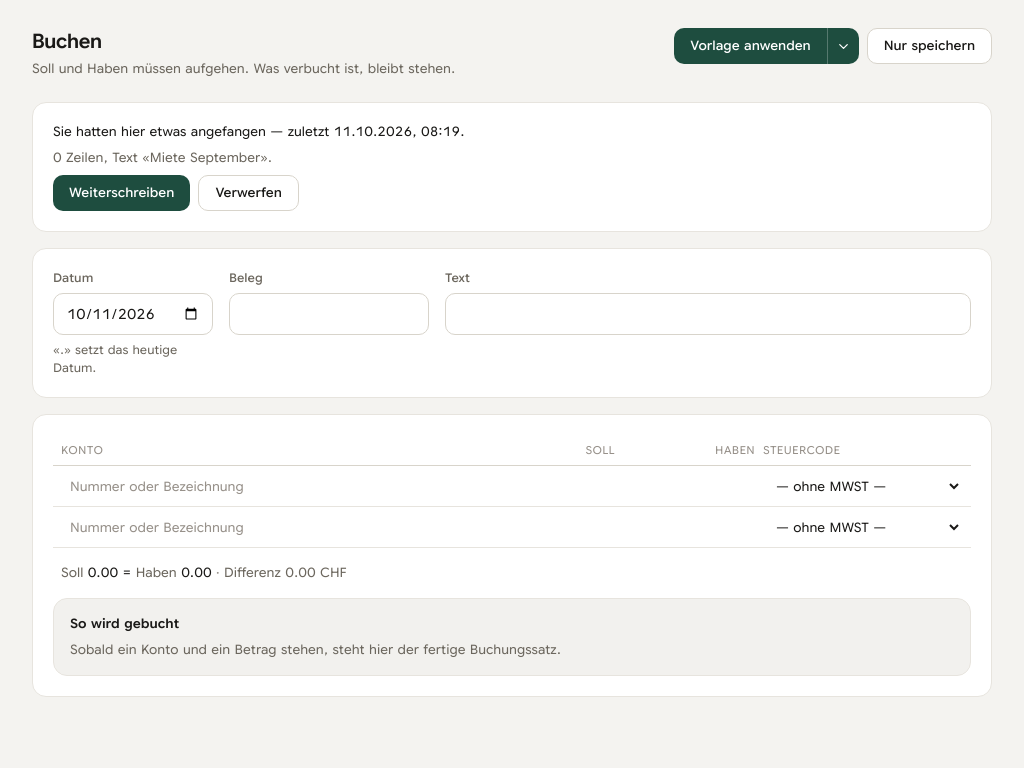
EntryPage › discardsTheRescuedDraftTest
Click the button "Verwerfen".
click(249, 193)  # box [198,175,299,211]
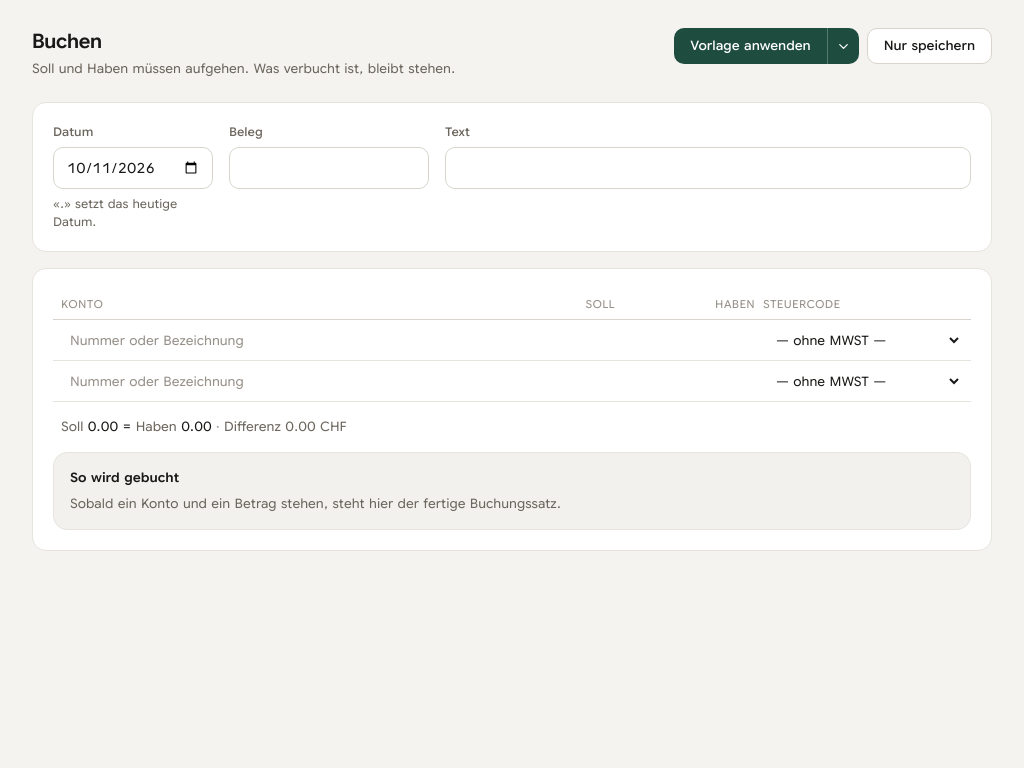
Result: the text "Sie hatten hier etwas angefangen" is gone
